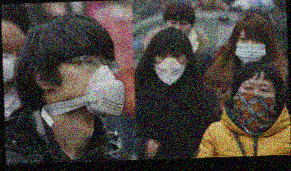with_mask: (43, 46, 125, 124), (230, 80, 277, 132), (151, 48, 189, 87), (234, 32, 266, 63), (2, 39, 21, 87)
without_mask: (163, 18, 192, 38)
